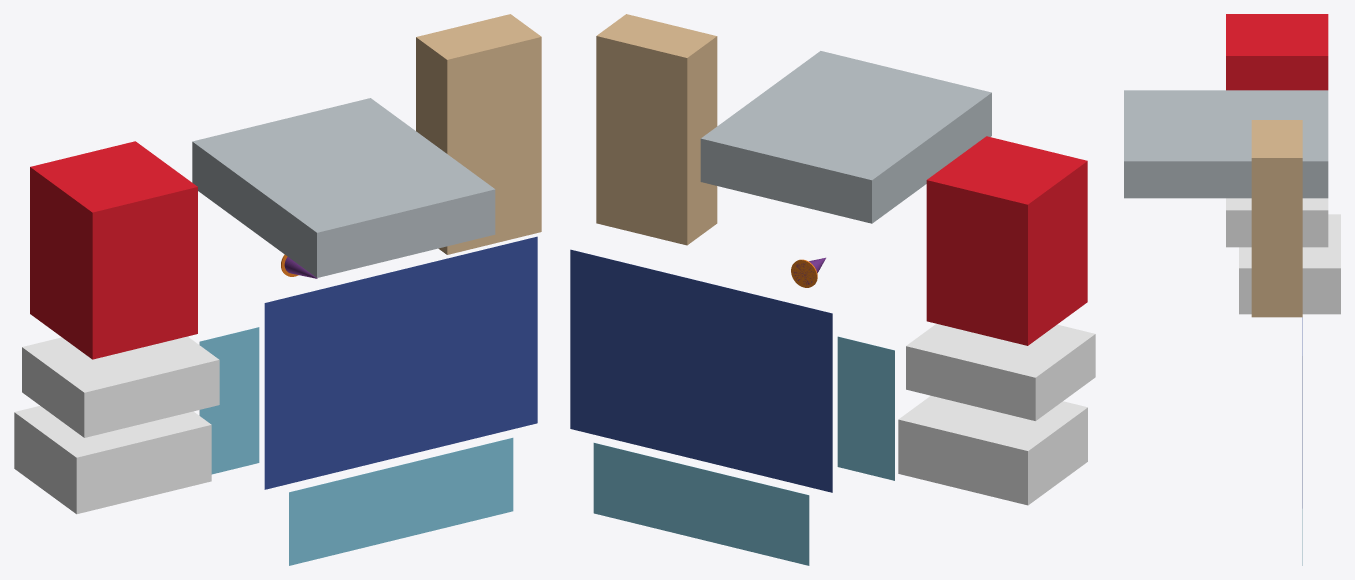
File: Fantastic Jofo-Lahdi.obj
3 renders of one model, left to right at view 1: azimuth 30°, elevation 25°; view 2: azimuth 150°, elevation 25°; view 3: azimuth 270°, elevation 25°, orthographic. The views are drawn at different scales.
Visible parts, largest first — view 1: obj_7, obj_0, obj_2, obj_1, obj_8, obj_4, obj_3, obj_9; view 2: obj_7, obj_0, obj_2, obj_1, obj_8, obj_4, obj_3, obj_9; view 3: obj_0, obj_1, obj_2, obj_4, obj_3.
Part boxes in pixels (<box>): obj_7: <box>264,236,537,489</box>; obj_0: <box>192,98,495,277</box>; obj_2: <box>30,141,197,359</box>; obj_1: <box>416,14,541,254</box>; obj_8: <box>289,437,513,565</box>; obj_4: <box>14,406,211,514</box>; obj_3: <box>22,336,219,437</box>; obj_9: <box>199,327,259,474</box>; obj_7: <box>570,249,832,492</box>; obj_0: <box>700,51,991,223</box>; obj_2: <box>926,136,1087,345</box>; obj_1: <box>596,14,717,245</box>; obj_8: <box>593,442,809,565</box>; obj_4: <box>898,396,1087,505</box>; obj_3: <box>906,323,1095,420</box>; obj_9: <box>837,336,894,480</box>; obj_0: <box>1124,90,1328,198</box>; obj_1: <box>1251,120,1302,317</box>; obj_2: <box>1226,14,1328,90</box>; obj_4: <box>1239,214,1340,314</box>; obj_3: <box>1226,198,1328,247</box>.
Size of the model in its own units: 185 by 176 by 85.
